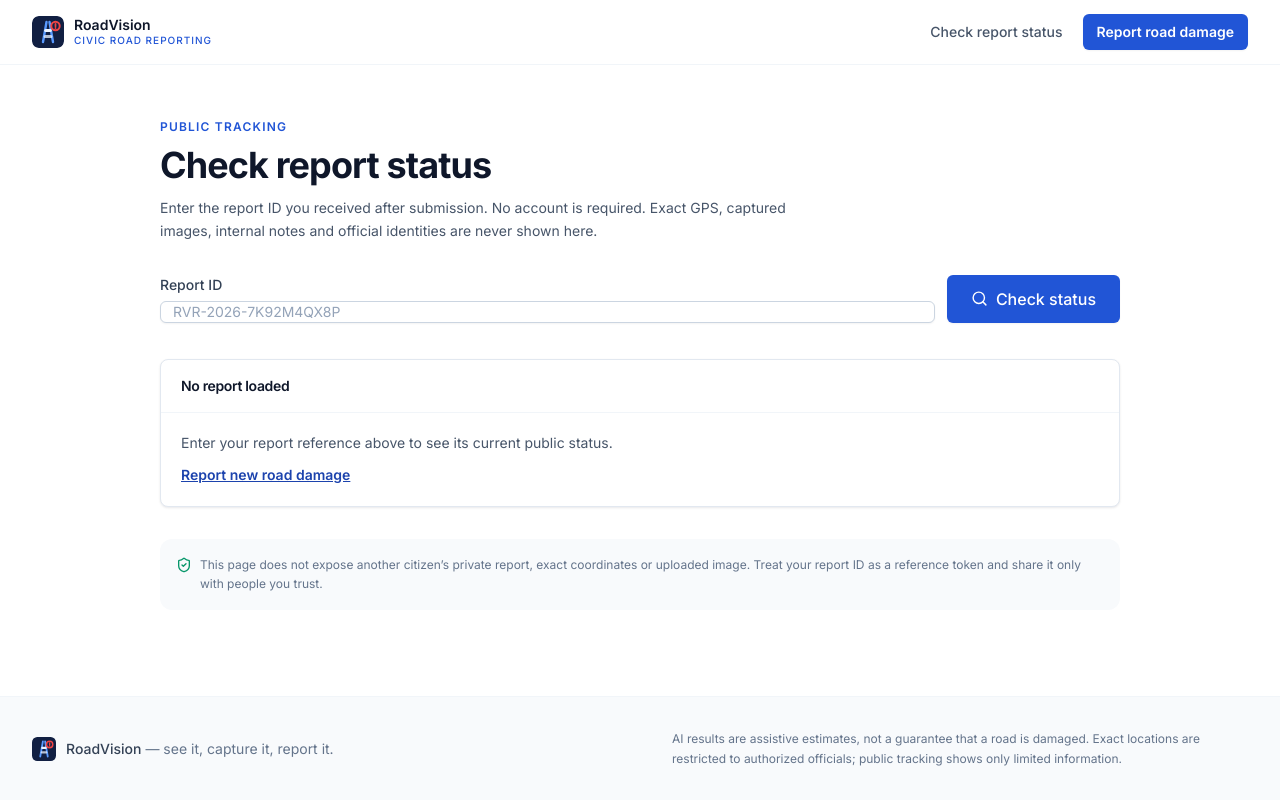
Test case: TrackPage › rejects guessed/invalid public IDs before calling the public status API
Type "not-a-real-id" into the field labelled "Report ID" at (547, 312), box [160,300,935,322]
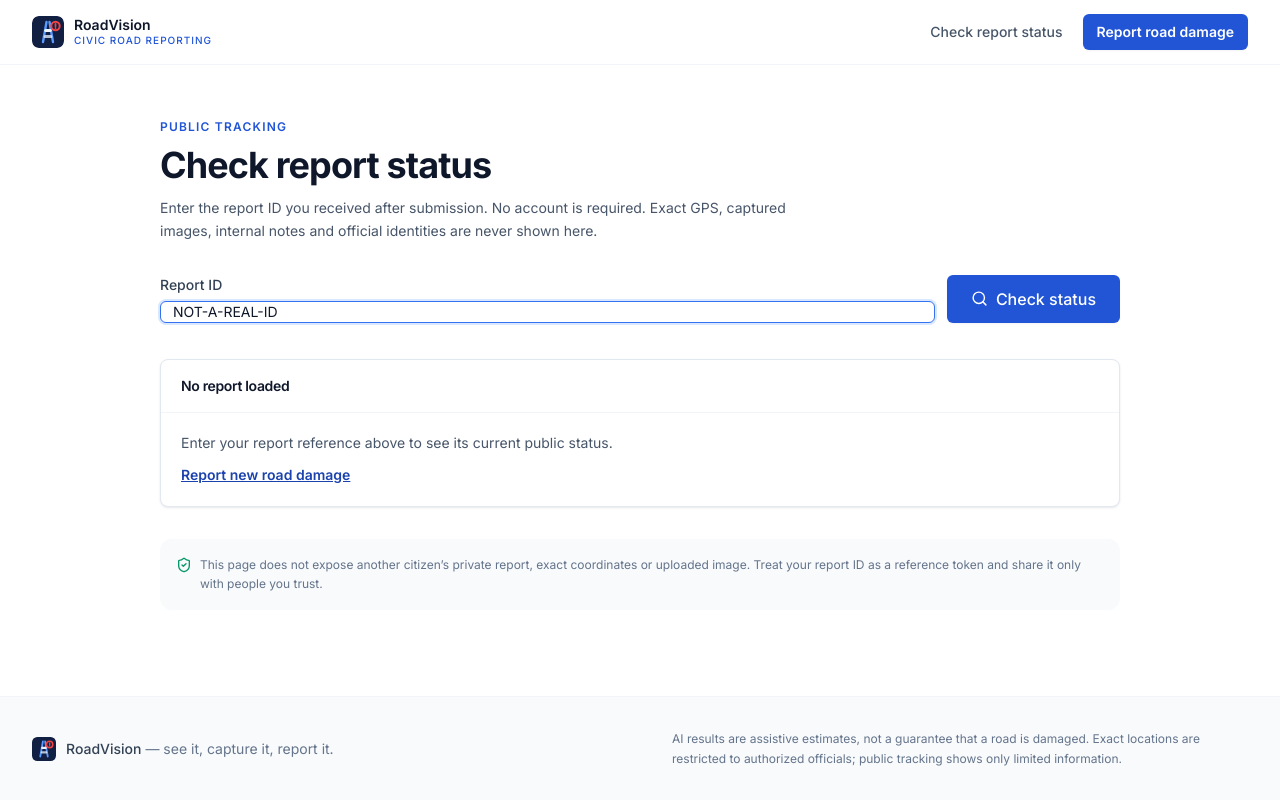
Click the button "Check status" at (1033, 298), box [947,274,1120,322]
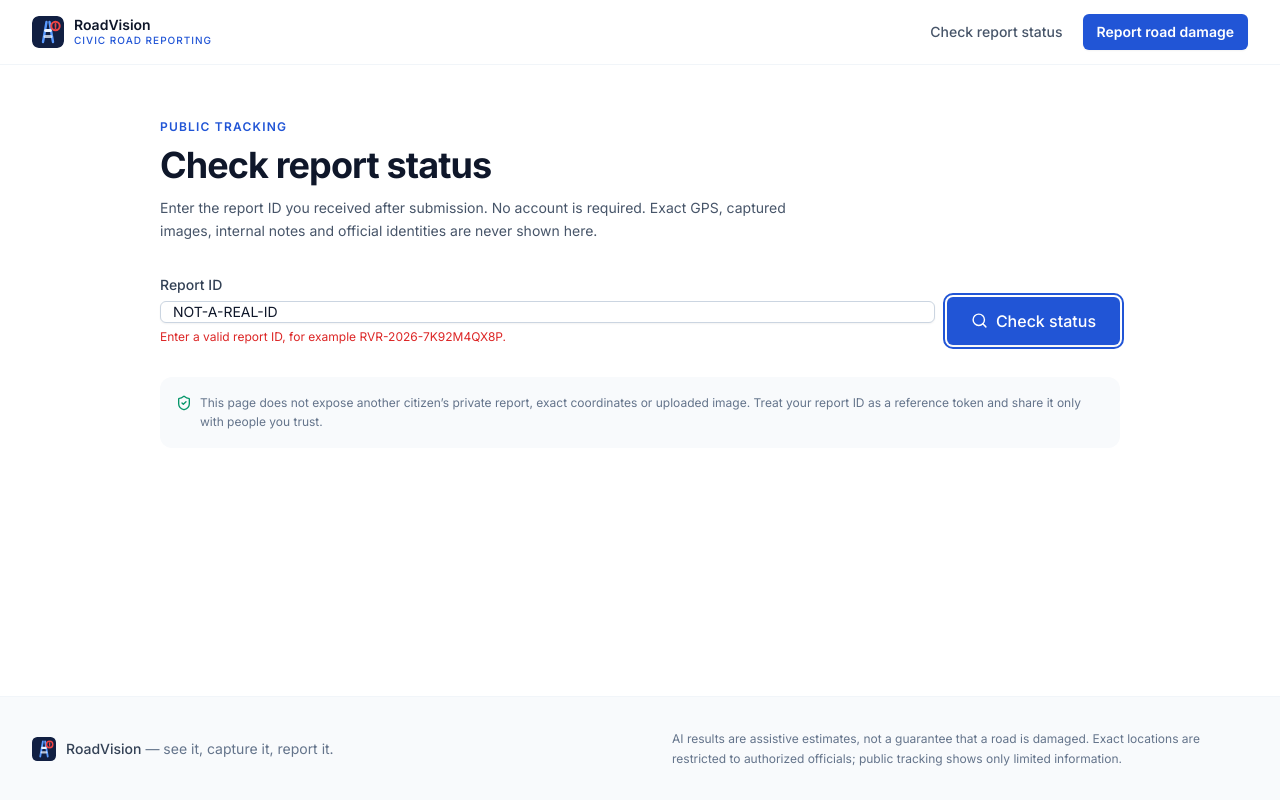
Expected: the text "Enter a valid report ID, for example RVR-2026-7K92M4QX8P." is shown, [160,328,506,344]
